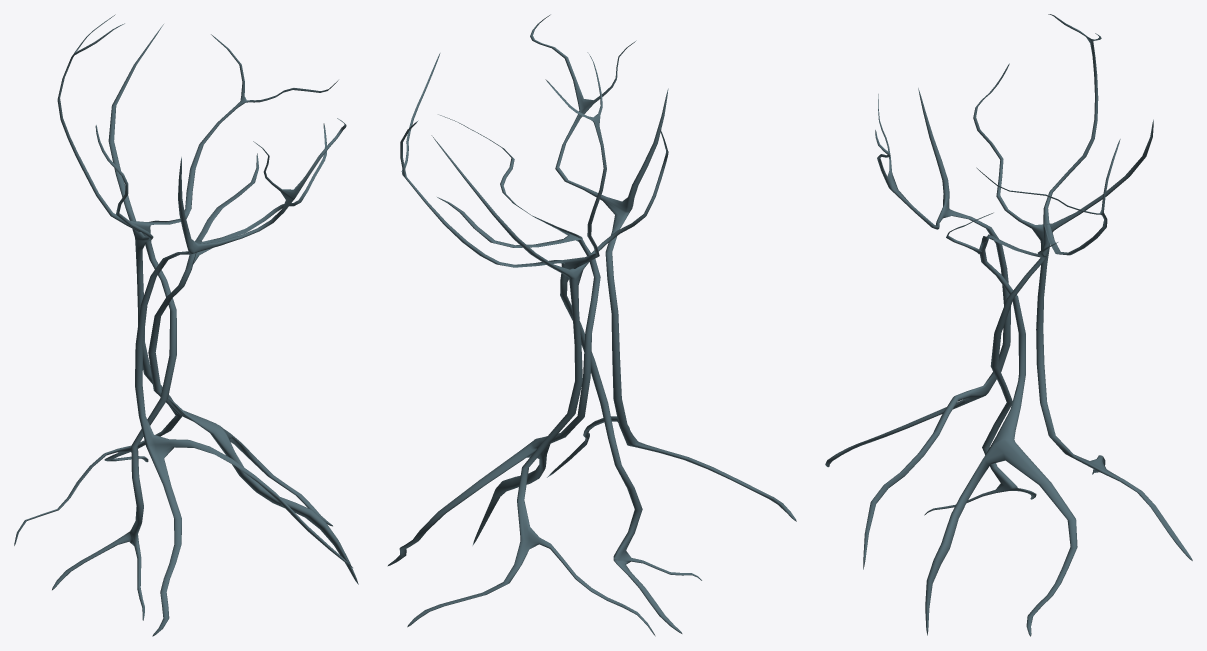
File: galhos.glb
3 views of the same model, side by side, from view 1: azimuth 30°, elevation 25°; view 2: azimuth 150°, elevation 25°; view 3: azimuth 270°, elevation 25° (orthographic). The views are drawn at different scales.
Visible parts, largest first — view 1: galho_02, galho_04, galho_03, galho_01; view 2: galho_04, galho_01, galho_02, galho_03; view 3: galho_03, galho_02, galho_04, galho_01.
Boxes of the visible parts, x1,y1,x2,y2 form: galho_02: (135, 118, 352, 636); galho_04: (52, 14, 338, 620); galho_03: (148, 123, 358, 584); galho_01: (14, 24, 181, 545); galho_04: (400, 52, 701, 633); galho_01: (407, 127, 668, 636); galho_02: (530, 14, 796, 521); galho_03: (387, 114, 600, 566); galho_03: (925, 212, 1077, 636); galho_02: (825, 88, 1010, 569); galho_04: (924, 14, 1120, 515); galho_01: (973, 63, 1192, 560).
Bounding box in the file's own units: 55.04 × 102 × 62.84.
